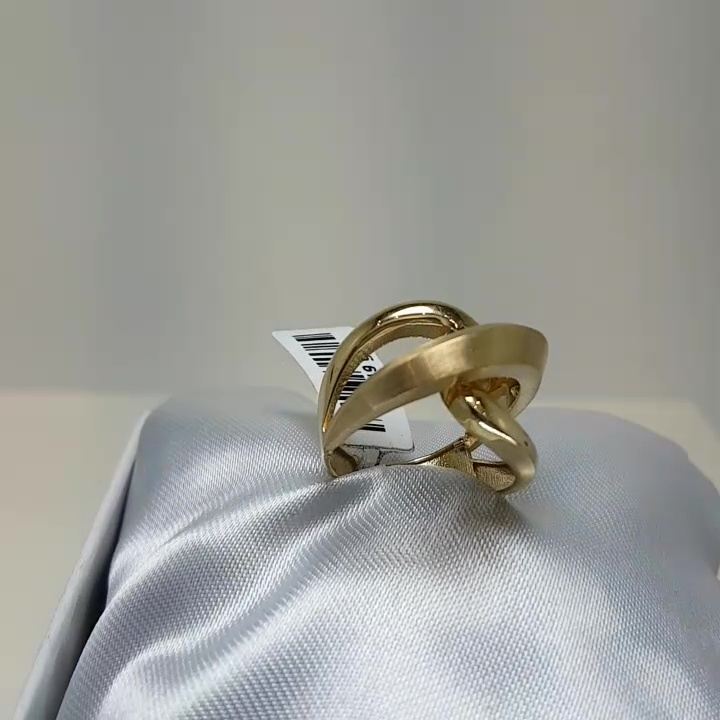Ring 3: (263, 280, 591, 530)
